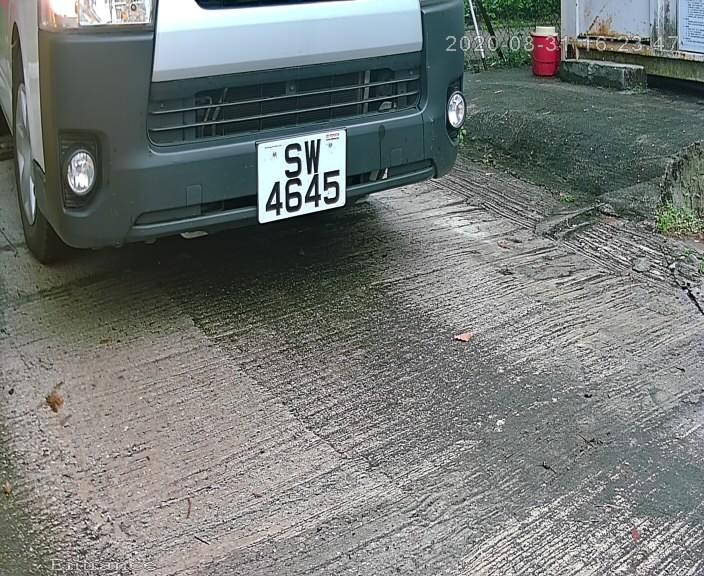Car: (10, 1, 503, 312)
License Plate: (252, 129, 359, 227)
